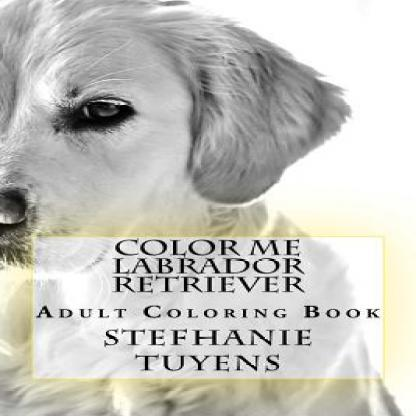Labarador Retriever: (2, 8, 391, 413)
